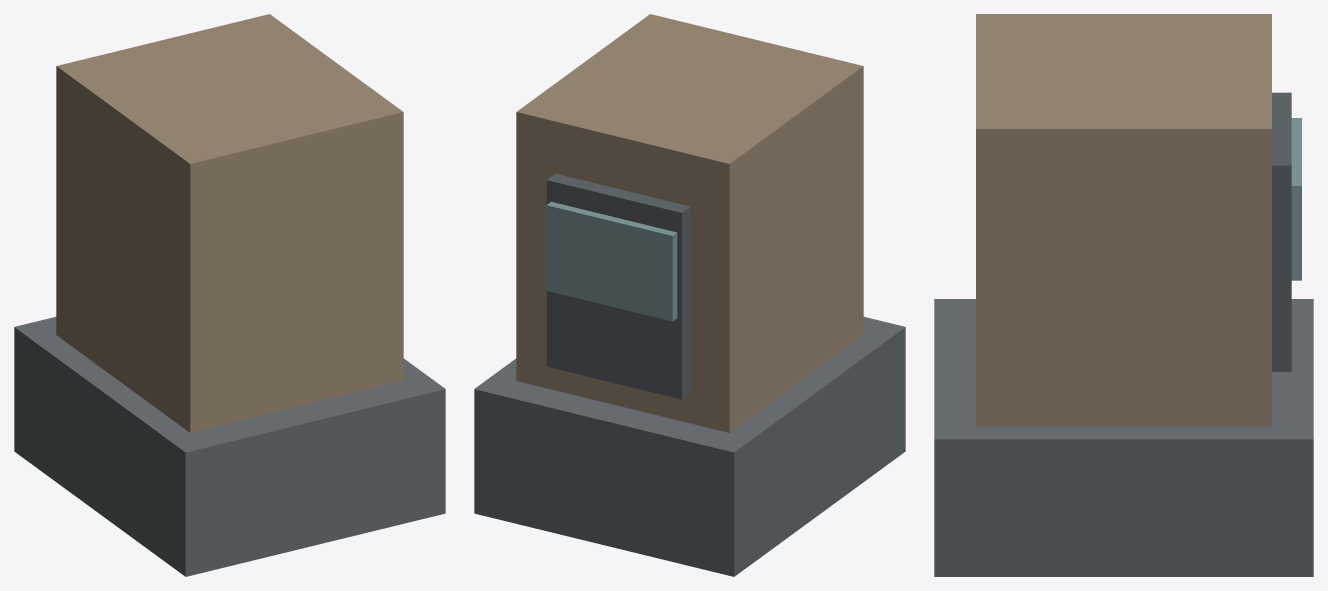
The model's file is iz3_health_wheelchair_02.glb.
3 views of the same model, side by side, from view 1: azimuth 30°, elevation 25°; view 2: azimuth 150°, elevation 25°; view 3: azimuth 270°, elevation 25° (orthographic). The views are drawn at different scales.
Visible parts, largest first — view 1: cabinet, base; view 2: cabinet, base, panel, display; view 3: cabinet, base, panel, display.
Part boxes in pixels (x1,y1,x2,y2): cabinet: (56, 14, 403, 432); base: (14, 317, 445, 576); cabinet: (516, 14, 863, 432); base: (474, 317, 905, 576); panel: (546, 173, 690, 399); display: (546, 201, 677, 321); cabinet: (976, 14, 1271, 426); base: (934, 299, 1313, 576); panel: (1272, 92, 1291, 371); display: (1291, 118, 1301, 280).
Bounding box in the file's own units: 0.7 × 1.01 × 0.8.
